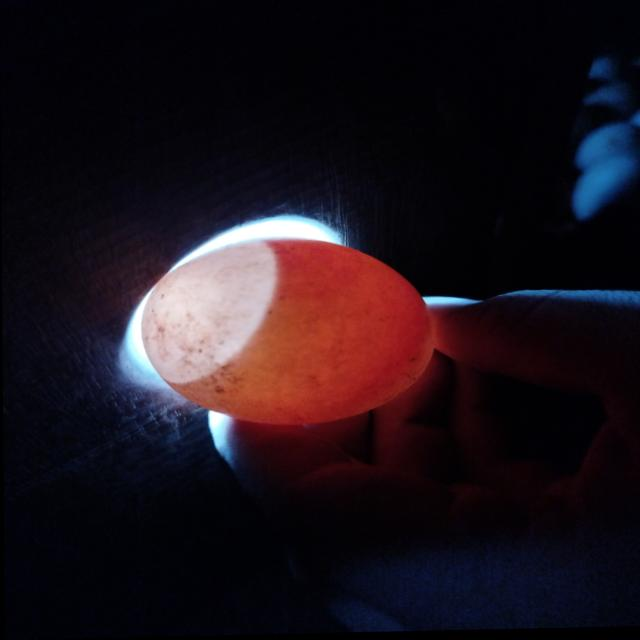Camara de Ar: (141, 240, 277, 384)
